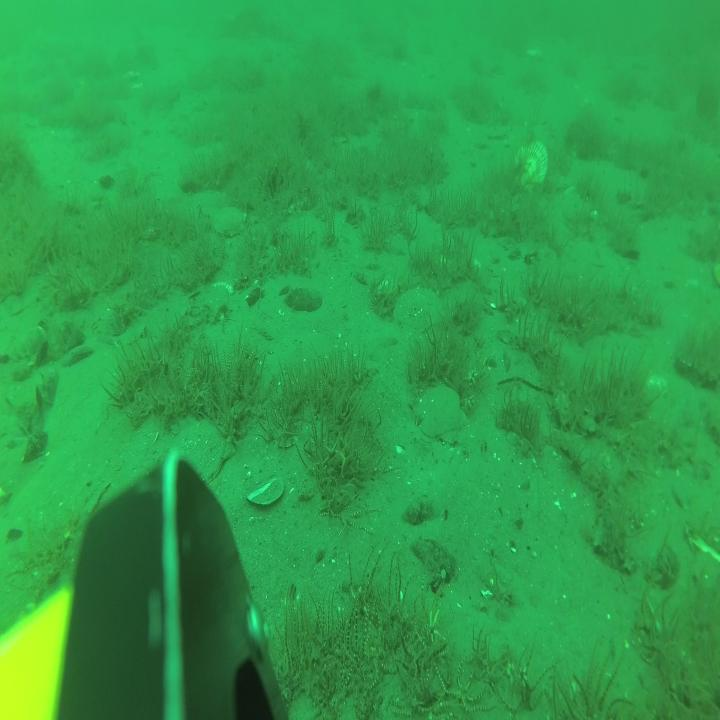scallop: (166, 416, 236, 487), (415, 387, 466, 436), (514, 143, 546, 187), (212, 205, 246, 238), (528, 45, 543, 59)
